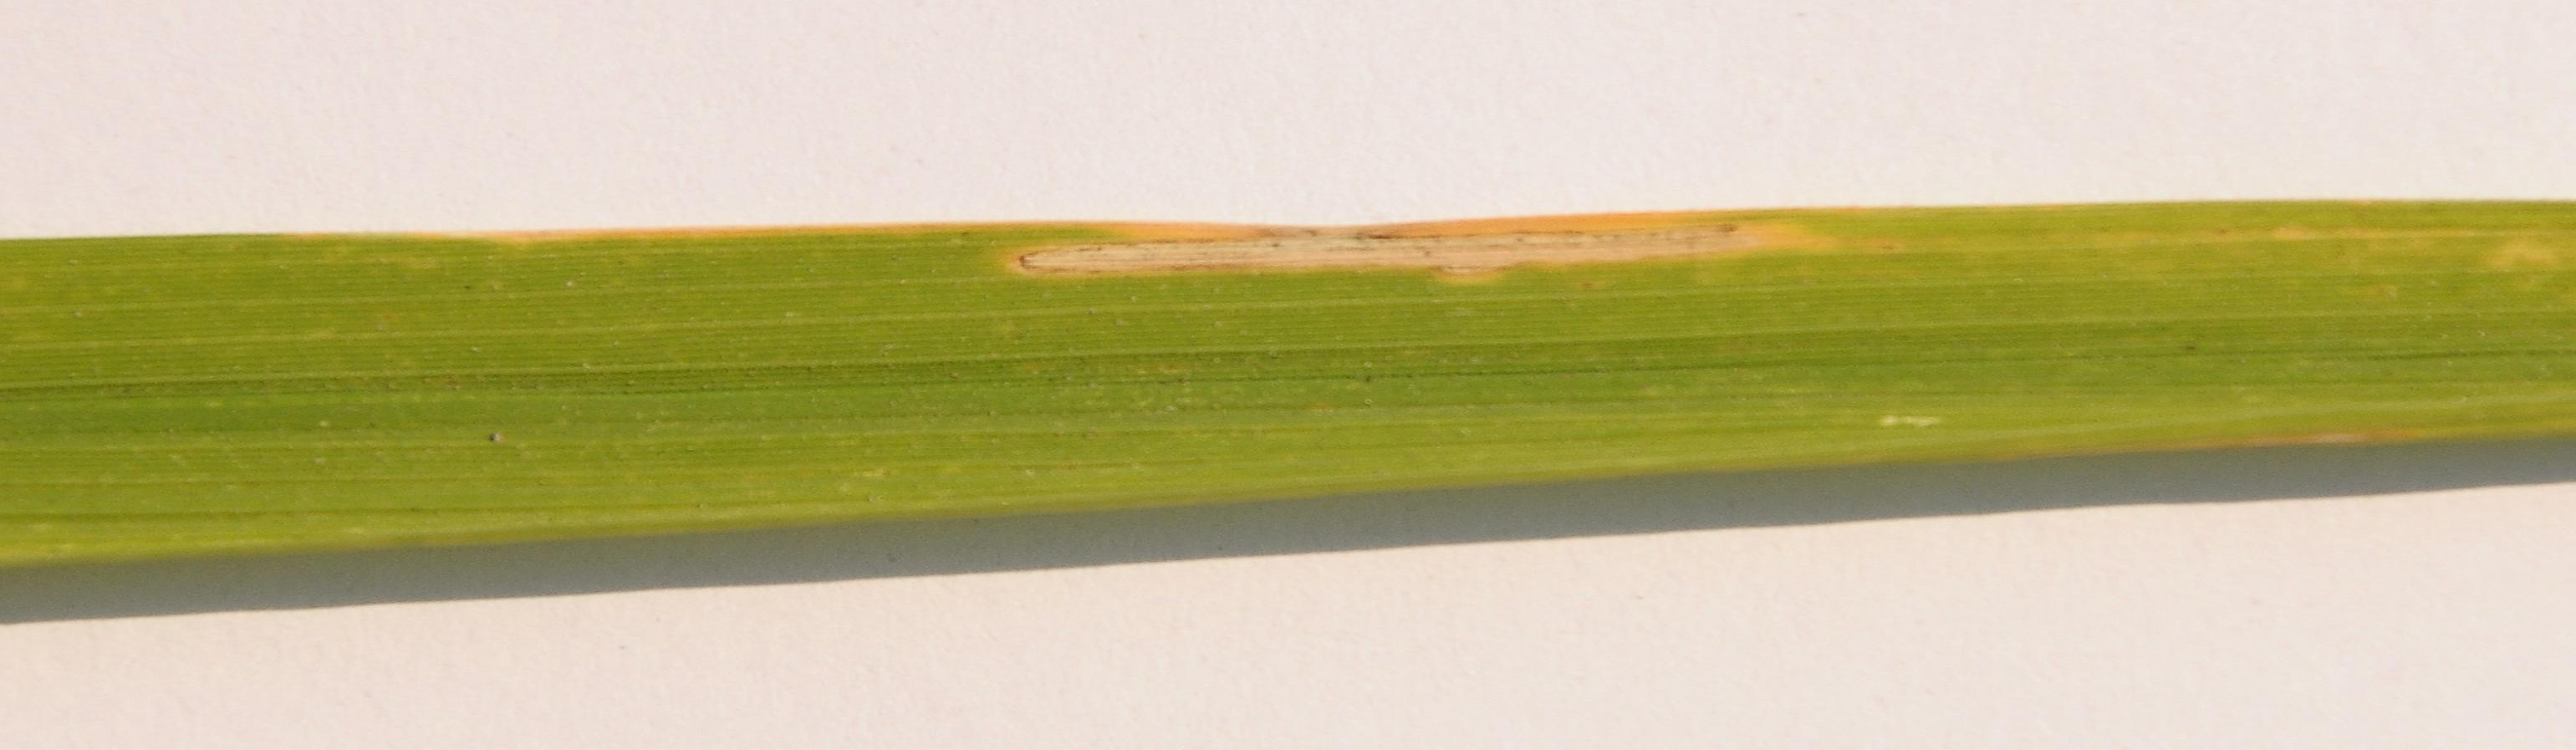bacterial_leaf_blight: (999, 215, 1812, 307)
